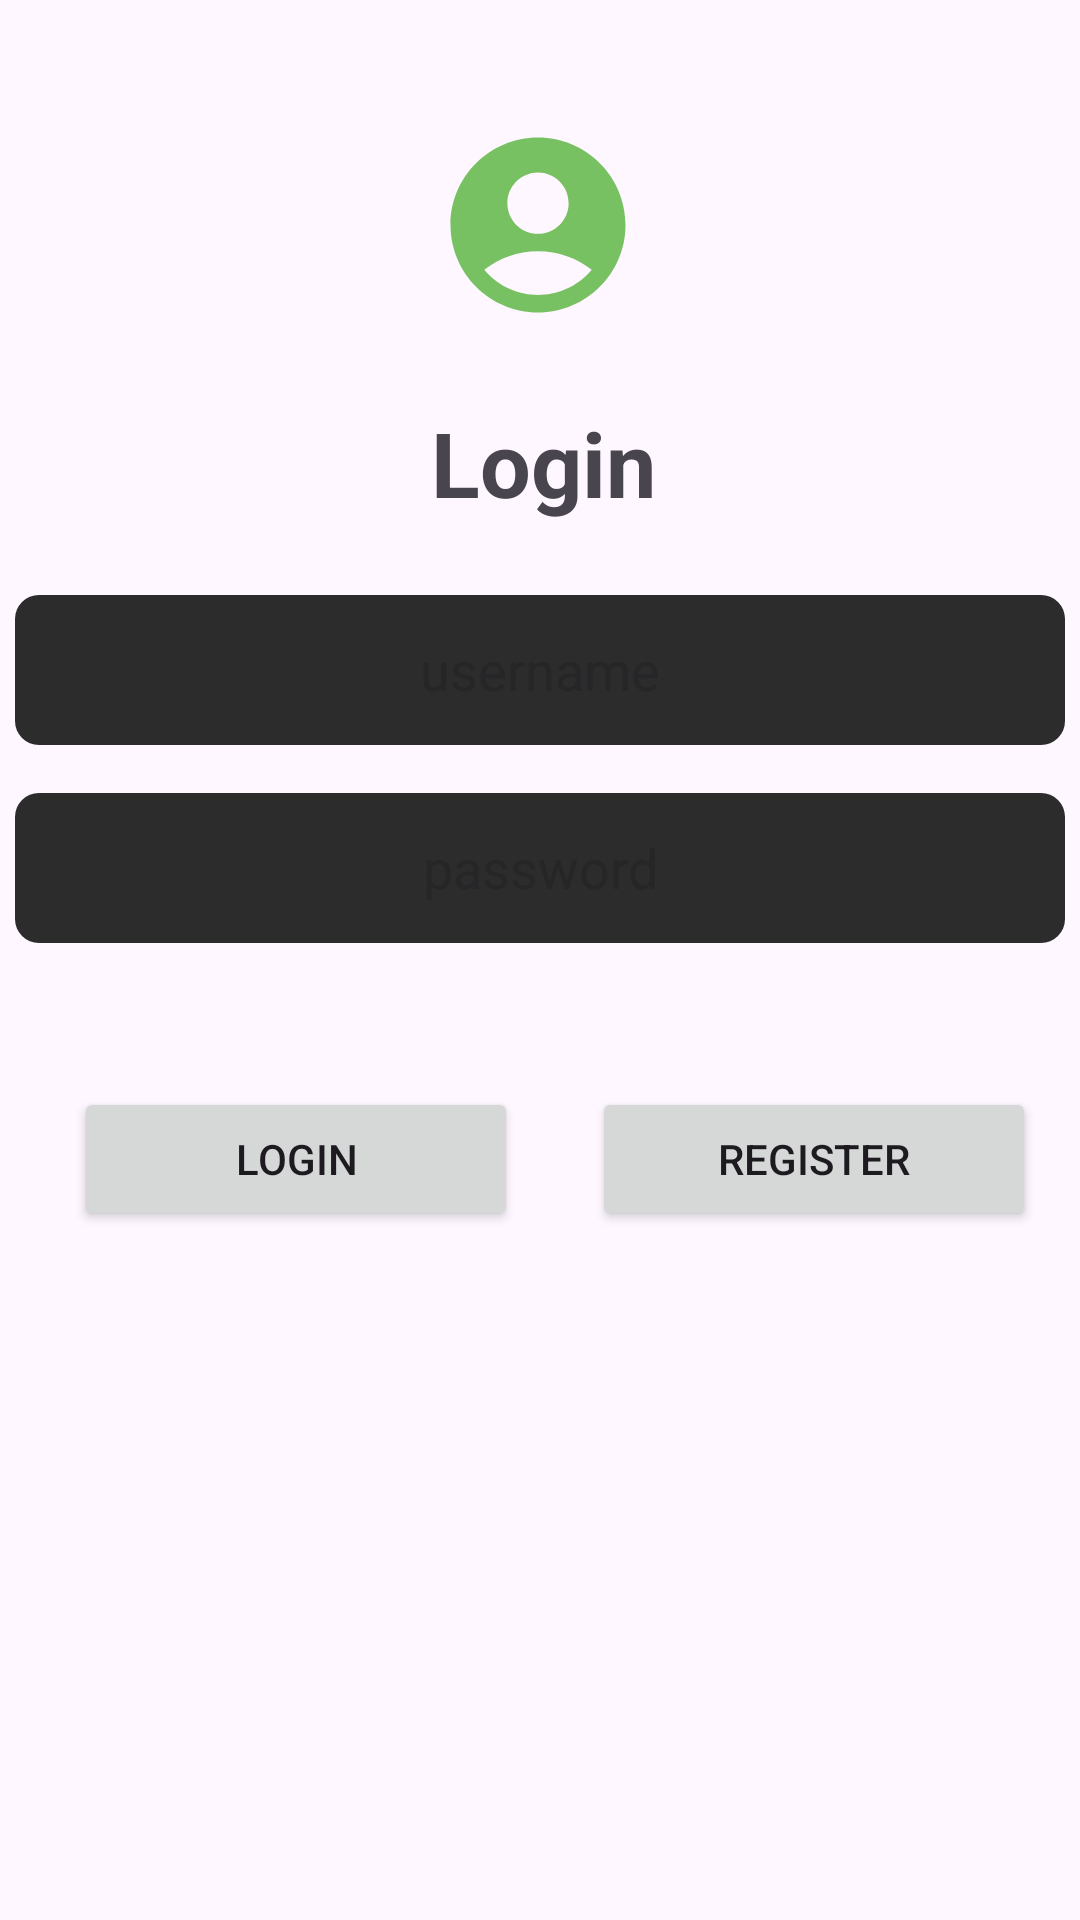

Icons on this 1080 × 1920 Android screen, each with the point to tap as point (x, y):
profile: point (538, 225)
